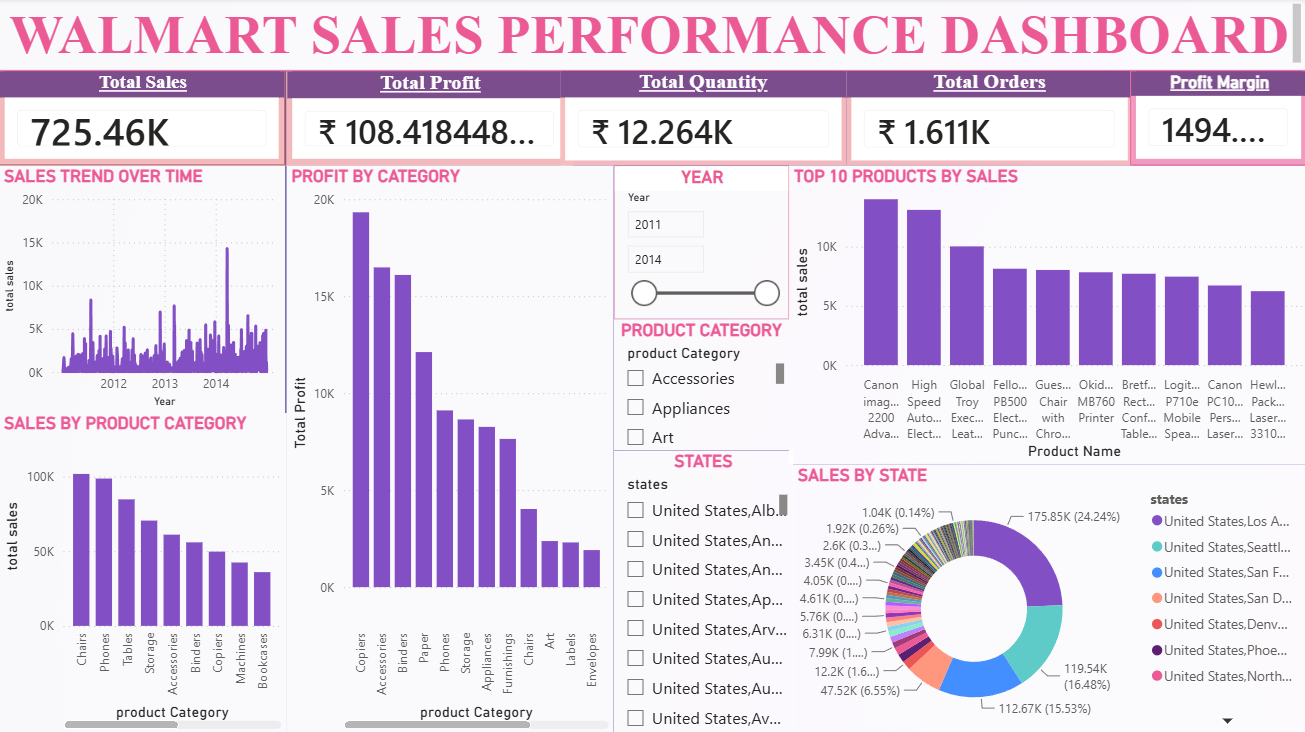

What the dashboard file says about the page in this screenshot:
{"tool":"powerbi","page":{"name":"Page 1","canvas":[1280,720],"ordinal":0},"visuals":[{"type":"cardVisual","title":"Total Sales","fields":{"Data":["Walmart (2).total sales"]},"box":[0,70.9,280,92.9],"z":0},{"type":"cardVisual","title":"Total Profit","fields":{"Data":["Walmart (2).Total Profit"]},"box":[281.3,70.9,280,92.9],"z":1000},{"type":"cardVisual","title":"Total Quantity","fields":{"Data":["Walmart (2).Total Quantity"]},"box":[549.1,70.9,280,92.9],"z":2000},{"type":"cardVisual","title":"Total Orders","fields":{"Data":["Walmart (2).Total orders"]},"box":[829.1,70.9,280,92.9],"z":3000},{"type":"lineChart","title":"SALES TREND OVER TIME","fields":{"Y":["Walmart (2).total sales"],"Category":["Walmart (2).Order Date.Variation.Date Hierarchy.Year","Walmart (2).Order Date.Variation.Date Hierarchy.Quarter","Walmart (2).Order Date.Variation.Date Hierarchy.Month","Walmart (2).Order Date.Variation.Date Hierarchy.Day"]},"box":[0,163.9,280,242.1],"z":4000},{"type":"clusteredColumnChart","title":"SALES BY PRODUCT CATEGORY","fields":{"Category":["Walmart (2).product Category"],"Y":["Walmart (2).total sales"]},"box":[0,406,281.3,314.3],"z":5000},{"type":"clusteredColumnChart","title":"PROFIT BY CATEGORY","fields":{"Category":["Walmart (2).product Category"],"Y":["Walmart (2).Total Profit"]},"box":[281.3,163.9,320.4,556.4],"z":6000},{"type":"textbox","box":[0,0,1280,71],"z":7000},{"type":"clusteredColumnChart","title":"TOP 10 PRODUCTS BY SALES","fields":{"Category":["Walmart (2).Product Name"],"Y":["Walmart (2).total sales"]},"box":[772.8,163.9,507.5,292.3],"z":8000},{"type":"slicer","title":"YEAR","fields":{"Values":["Walmart (2).Year"]},"box":[601.6,163.9,171.2,150.4],"z":9000},{"type":"slicer","title":"PRODUCT CATEGORY","fields":{"Values":["Walmart (2).product Category"]},"box":[601.6,314.3,171.2,128.4],"z":10000},{"type":"slicer","title":"STATES","fields":{"Values":["Walmart (2).states"]},"box":[601.6,442.7,174.9,277.6],"z":11000},{"type":"cardVisual","title":"Profit Margin","fields":{"Data":["Walmart (2).PROFIT MARGIN%"]},"box":[1106.7,70.9,173.6,92.9],"z":12000},{"type":"donutChart","title":"SALES BY STATE","fields":{"Category":["Walmart (2).states"],"Y":["Walmart (2).total sales"]},"box":[777,456,503,264],"z":13000}]}

Visuals, with their boxes in screenshot pixels (x1, y1, x2, y2), scaled from the page's 1280x720 canvas onto the 1305x732 screenshot:
"Total Sales" cardVisual: 0,72,285,167
"Total Profit" cardVisual: 287,72,572,167
"Total Quantity" cardVisual: 560,72,845,167
"Total Orders" cardVisual: 845,72,1131,167
"SALES TREND OVER TIME" lineChart: 0,167,285,413
"SALES BY PRODUCT CATEGORY" clusteredColumnChart: 0,413,287,731
"PROFIT BY CATEGORY" clusteredColumnChart: 287,167,613,731
textbox: 0,0,1304,72
"TOP 10 PRODUCTS BY SALES" clusteredColumnChart: 788,167,1304,464
"YEAR" slicer: 613,167,788,320
"PRODUCT CATEGORY" slicer: 613,320,788,450
"STATES" slicer: 613,450,792,731
"Profit Margin" cardVisual: 1128,72,1304,167
"SALES BY STATE" donutChart: 792,464,1304,731
